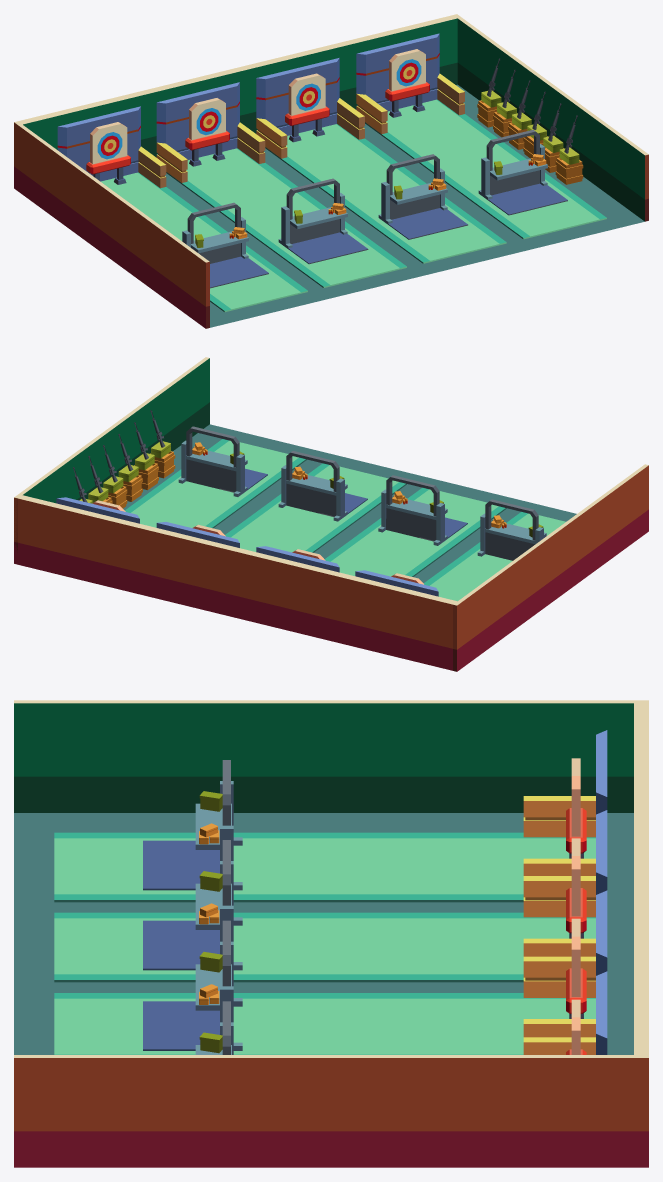
The model's file is Training_Ground_Winter.fbx.
3 renders of one model, top to bottom at view 1: azimuth 30°, elevation 25°; view 2: azimuth 150°, elevation 25°; view 3: azimuth 270°, elevation 25°, orthographic. The views are drawn at different scales.
Parts seen in each view (by area): view 1: wall_half21, Floor1, wall_half20, wall37, pCube7, pCube6, pCube5, pCube4, pCube10, pCube11, pCube9, shooting_table1 (+13 smaller); view 2: wall37, wall_half21, wall_half20, Floor1, pCube6, pCube7, pCube5, shooting_table1, shooting_table3, shooting_table2, pCube4, shooting_table (+8 smaller); view 3: wall_half20, wall_half21, Floor1, pCube5, pCube4, pCube6, wall37, shooting_table1, shooting_table, shooting_table2, pCube10, pCube9 (+6 smaller).
Boxes of the visible parts, x1,y1,x2,y2 form: wall_half21: (14,121,209,328); Floor1: (165,84,644,327); wall_half20: (454,14,648,221); wall37: (18,14,461,157); pCube7: (365,99,606,239); pCube6: (265,124,506,263); pCube5: (166,148,406,287); pCube4: (101,172,307,312); pCube10: (256,58,364,158); pCube11: (356,33,464,134); pCube9: (156,82,265,182); shooting_table1: (278,178,368,264); wall37: (14,494,458,670); wall_half21: (453,464,648,671); wall_half20: (14,357,209,563); Floor1: (123,424,576,583); pCube6: (225,463,406,552); pCube7: (125,439,306,528); pCube5: (324,487,506,576); shooting_table1: (378,475,467,545); shooting_table3: (178,426,267,496); shooting_table2: (278,451,367,521); pCube4: (424,512,565,601); shooting_table: (477,499,546,560); wall_half20: (14,1055,648,1167); wall_half21: (14,700,648,812); Floor1: (14,813,633,1054); pCube5: (54,912,595,982); pCube4: (54,832,595,902); pCube6: (54,993,595,1054); wall37: (634,703,648,1167); shooting_table1: (143,840,242,970); shooting_table: (143,760,242,890); shooting_table2: (143,920,242,1050); pCube10: (523,890,607,1037); pCube9: (523,810,607,956).
Size of the model in its own units: 1400 by 203 by 1050.
